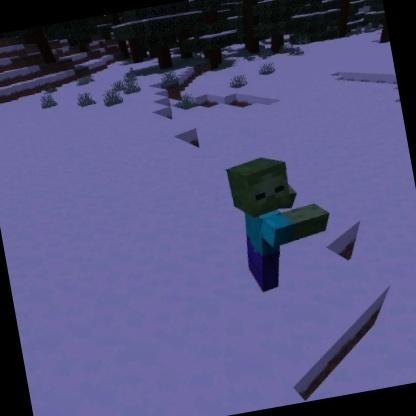zombie: (220, 143, 346, 298)
